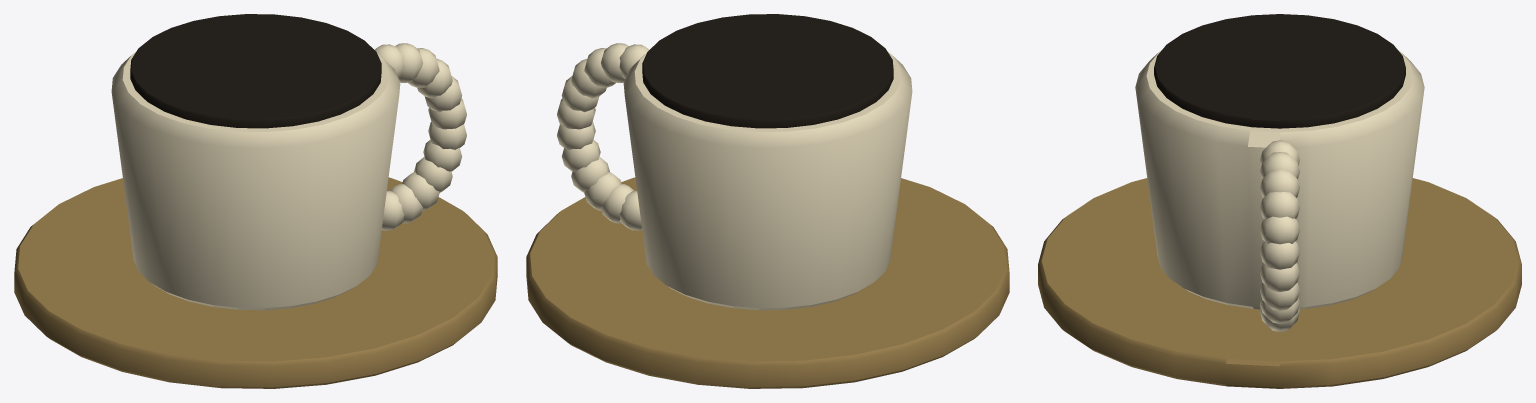
The model's file is espresso.glb.
3 views of the same model, side by side, from view 1: azimuth 30°, elevation 25°; view 2: azimuth 150°, elevation 25°; view 3: azimuth 270°, elevation 25° (orthographic).
Visible parts, largest first — view 1: part::espresso/coffee-saucer-001, part::espresso/ceramic-espresso-cup-001, part::espresso/coffee-surface-001, part::espresso/cup-handle-008, part::espresso/cup-handle-009, part::espresso/cup-handle-007, part::espresso/cup-handle-010, part::espresso/cup-handle-006, part::espresso/cup-handle-002, part::espresso/cup-handle-011, part::espresso/cup-handle-005, part::espresso/cup-handle-003 (+3 smaller); view 2: part::espresso/coffee-saucer-001, part::espresso/ceramic-espresso-cup-001, part::espresso/coffee-surface-001, part::espresso/cup-handle-008, part::espresso/cup-handle-009, part::espresso/cup-handle-007, part::espresso/cup-handle-010, part::espresso/cup-handle-006, part::espresso/cup-handle-002, part::espresso/cup-handle-011, part::espresso/cup-handle-005, part::espresso/cup-handle-003 (+3 smaller); view 3: part::espresso/coffee-saucer-001, part::espresso/ceramic-espresso-cup-001, part::espresso/coffee-surface-001, part::espresso/cup-handle-005, part::espresso/cup-handle-004, part::espresso/cup-handle-006, part::espresso/cup-handle-007, part::espresso/cup-handle-003, part::espresso/cup-handle-008, part::espresso/cup-handle-002, part::espresso/cup-handle-009, part::espresso/cup-handle-001.
Part boxes in pixels (<box>): part::espresso/coffee-saucer-001: <box>14,177,497,388</box>; part::espresso/ceramic-espresso-cup-001: <box>111,51,400,310</box>; part::espresso/coffee-surface-001: <box>130,14,381,128</box>; part::espresso/cup-handle-008: <box>423,139,462,171</box>; part::espresso/cup-handle-009: <box>414,157,452,192</box>; part::espresso/cup-handle-007: <box>428,122,466,149</box>; part::espresso/cup-handle-010: <box>402,172,439,210</box>; part::espresso/cup-handle-006: <box>428,98,466,129</box>; part::espresso/cup-handle-002: <box>395,43,422,82</box>; part::espresso/cup-handle-011: <box>390,184,422,223</box>; part::espresso/cup-handle-005: <box>424,76,462,112</box>; part::espresso/cup-handle-003: <box>408,48,439,87</box>; part::espresso/coffee-saucer-001: <box>526,177,1009,388</box>; part::espresso/ceramic-espresso-cup-001: <box>623,51,912,310</box>; part::espresso/coffee-surface-001: <box>642,14,893,128</box>; part::espresso/cup-handle-008: <box>561,139,600,171</box>; part::espresso/cup-handle-009: <box>571,157,609,192</box>; part::espresso/cup-handle-007: <box>557,122,595,149</box>; part::espresso/cup-handle-010: <box>584,172,621,210</box>; part::espresso/cup-handle-006: <box>557,98,595,129</box>; part::espresso/cup-handle-002: <box>601,43,628,82</box>; part::espresso/cup-handle-011: <box>601,184,633,223</box>; part::espresso/cup-handle-005: <box>561,76,599,112</box>; part::espresso/cup-handle-003: <box>584,48,615,87</box>; part::espresso/coffee-saucer-001: <box>1038,178,1521,388</box>; part::espresso/ceramic-espresso-cup-001: <box>1135,50,1424,309</box>; part::espresso/coffee-surface-001: <box>1154,14,1405,128</box>; part::espresso/cup-handle-005: <box>1260,216,1299,244</box>; part::espresso/cup-handle-004: <box>1260,192,1299,218</box>; part::espresso/cup-handle-006: <box>1260,241,1299,269</box>; part::espresso/cup-handle-007: <box>1260,263,1299,291</box>; part::espresso/cup-handle-003: <box>1260,169,1299,197</box>; part::espresso/cup-handle-008: <box>1260,282,1299,310</box>; part::espresso/cup-handle-002: <box>1260,152,1299,179</box>; part::espresso/cup-handle-009: <box>1260,298,1299,323</box>; part::espresso/cup-handle-001: <box>1260,140,1299,165</box>.
Bounding box in the file's own units: 0.192 × 0.097 × 0.192.
